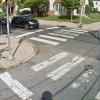Crosswalk: (31, 27, 79, 86)
